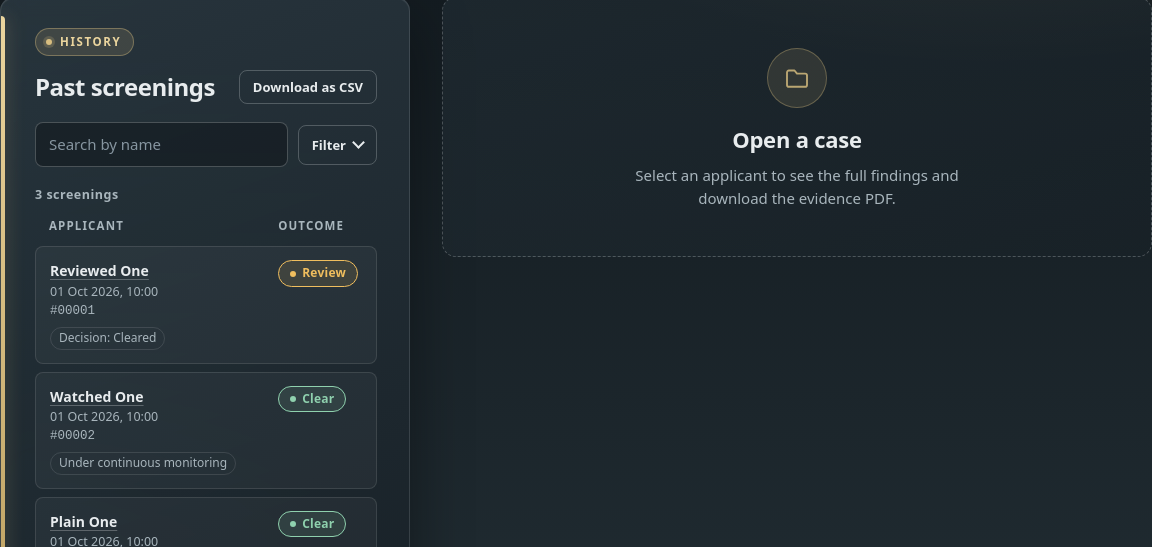
Test: history layout › also filters by review decision and monitoring
Expected: the button "Plain One" is shown, [50, 510, 117, 532]
What coordinates should you click on to do the following:
click the button "Filter"
I would click on:
 (337, 145)
Its box is [298, 125, 377, 165].
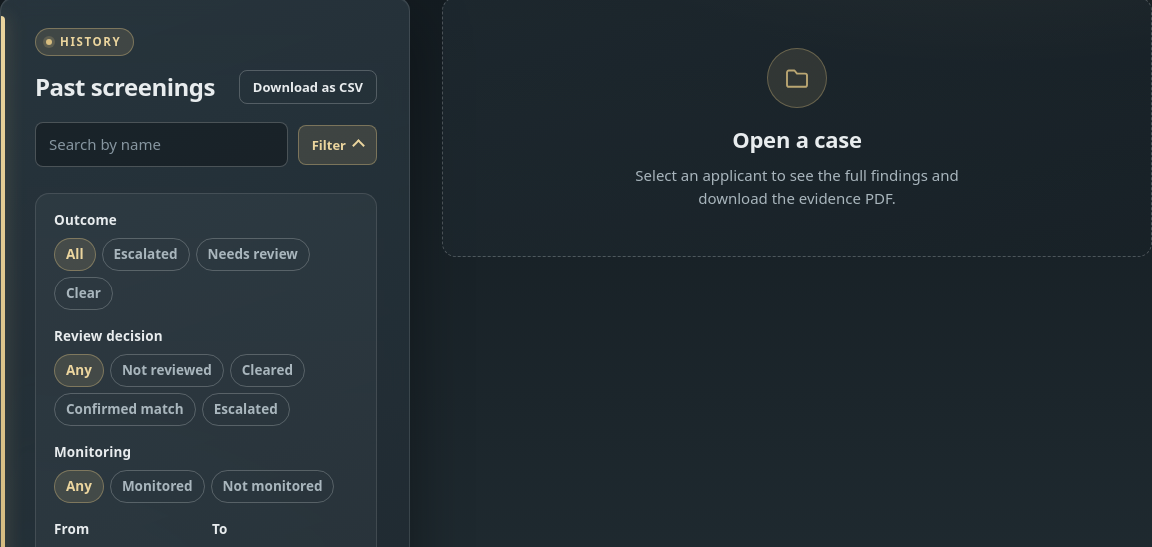
What coordinates should you click on to do the following:
click the button "Cleared"
I would click on:
 (267, 370)
Its box is [230, 354, 305, 387].
(page scrolled)
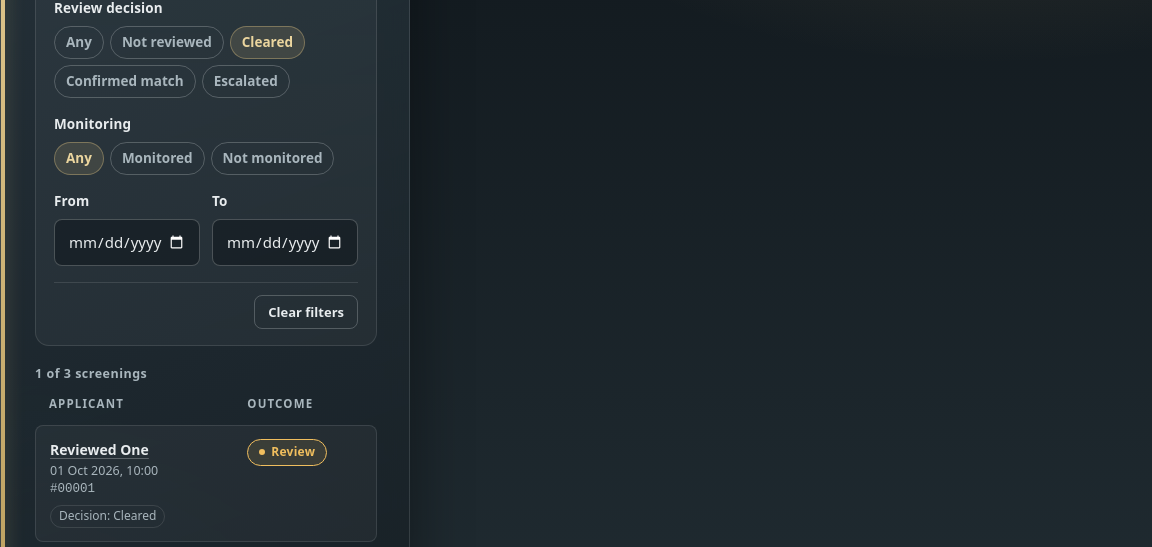
Expected: the button "Reviewed One" is shown, [50, 439, 149, 461]
What coordinates should you click on to do the following:
click the button "Clear filters"
I would click on:
 (306, 312)
Its box is [254, 295, 358, 329].
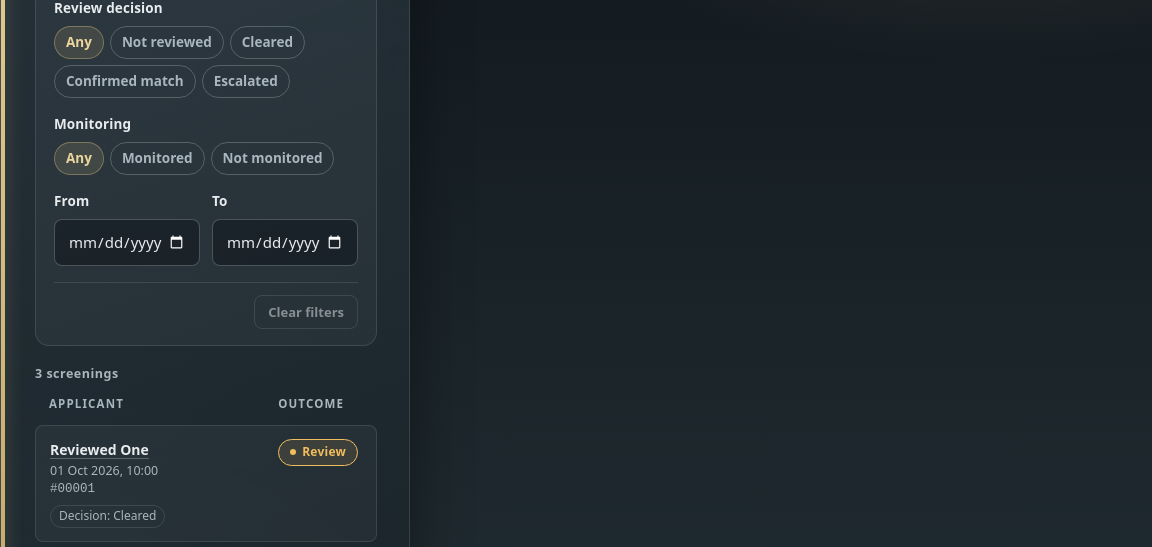
What coordinates should you click on to do the following:
click the button "Monitored"
I would click on:
 (157, 158)
Its box is [110, 142, 205, 175].
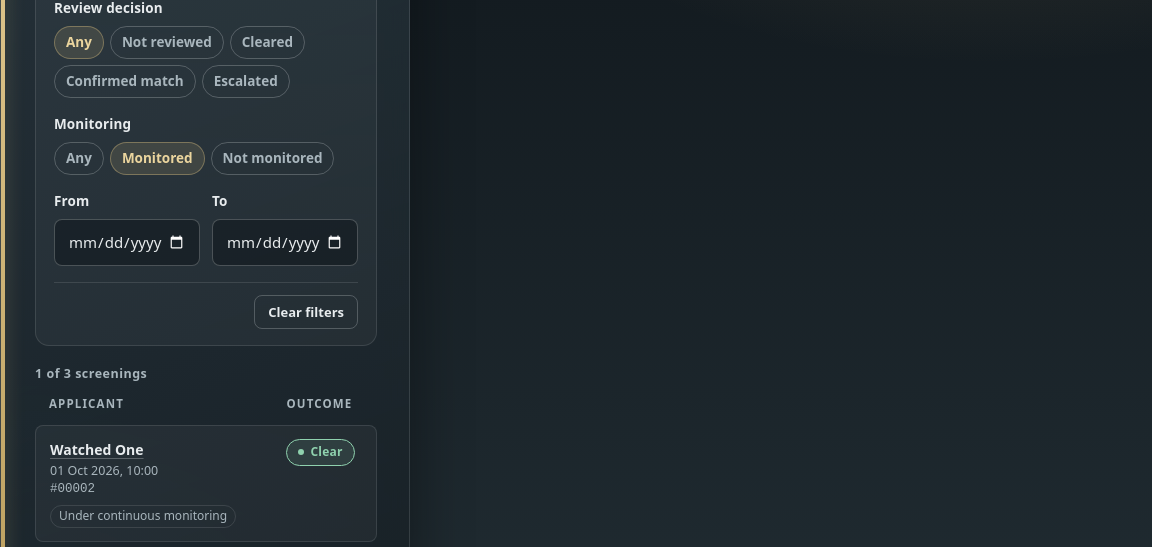
Expected: the button "Watched One" is shown, [50, 439, 144, 461]
What coordinates should you click on to do the following:
click the button "Clear filters"
I would click on:
 (306, 312)
Its box is [254, 295, 358, 329].
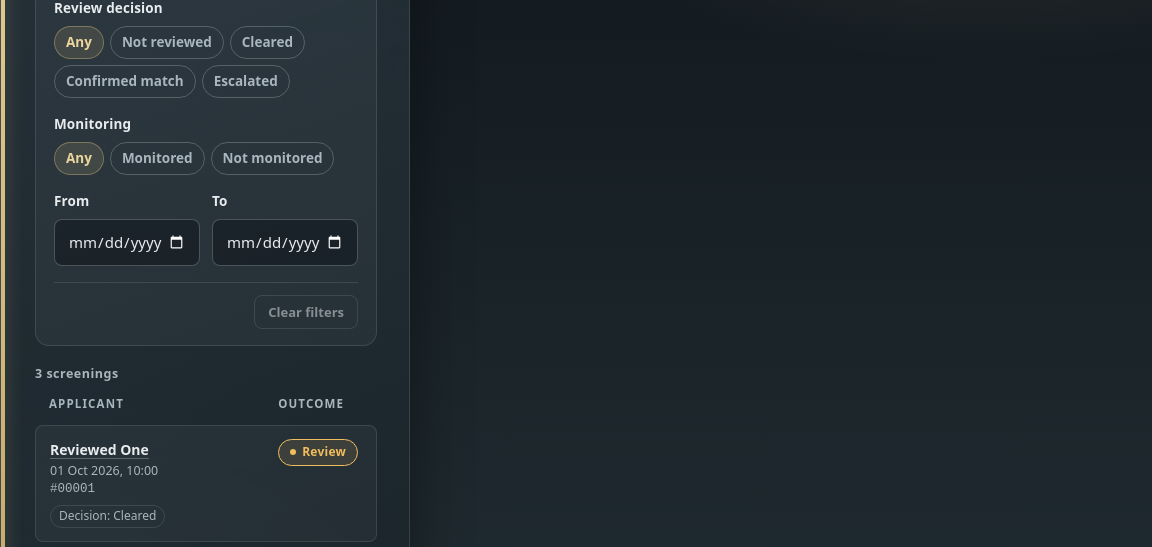
What coordinates should you click on to do the following:
click the button "Not reviewed"
I would click on:
 (167, 42)
Its box is [110, 26, 224, 59].
(page scrolled)
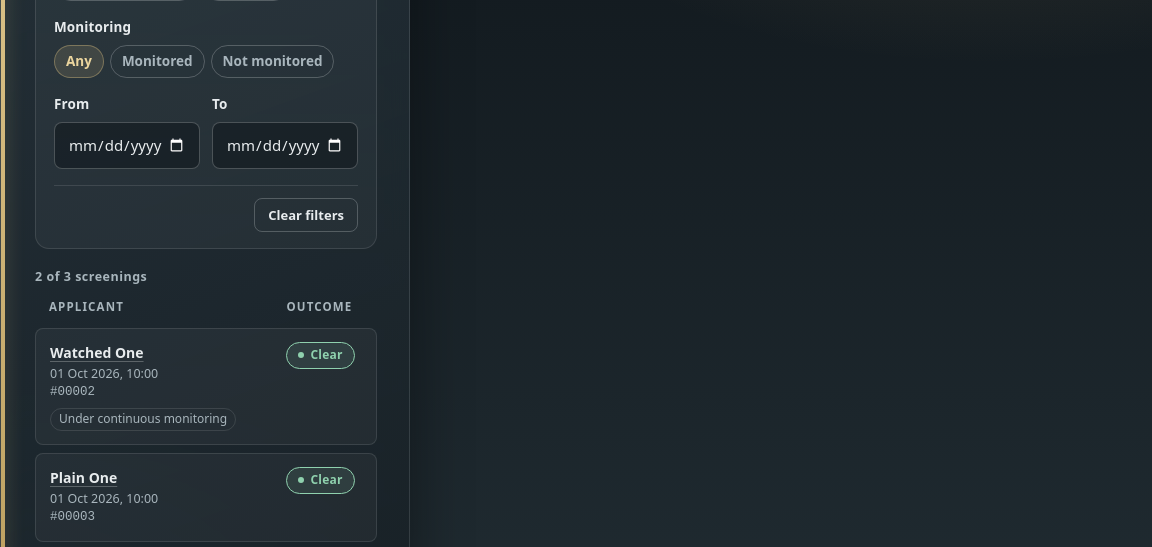
Expected: the button "Plain One" is shown, [50, 467, 117, 489]
Expected: the button "Reviewed One" is gone
